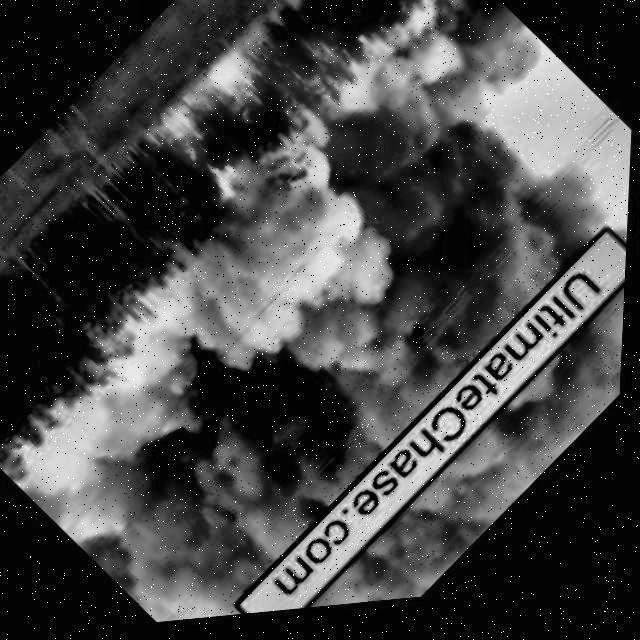Fire: (141, 49, 309, 224), (310, 57, 407, 159)
Smoke: (3, 27, 629, 638), (236, 278, 629, 620)
